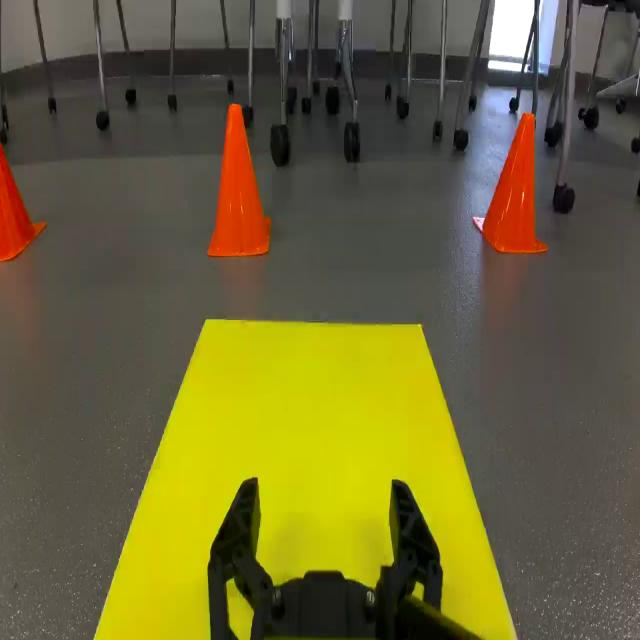cone: (208, 102, 272, 256), (483, 111, 548, 251)
yellow goal: (96, 320, 516, 639)
